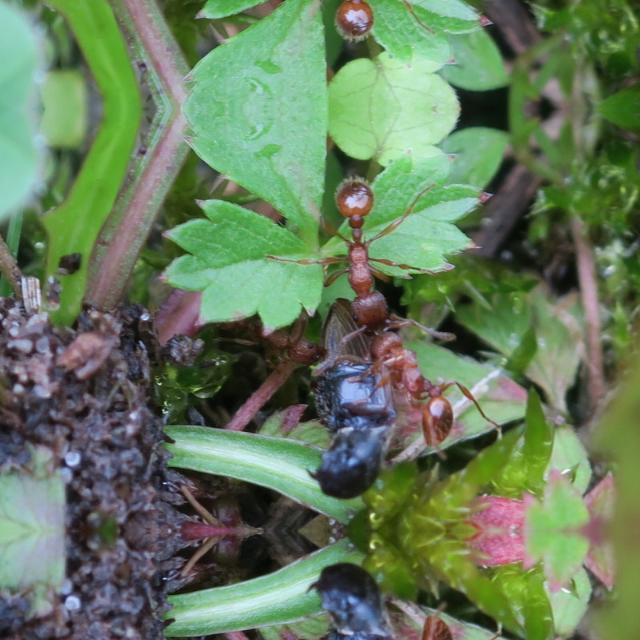Myrmica: (250, 145, 440, 343), (333, 306, 487, 469), (249, 0, 438, 70), (333, 590, 487, 640)
